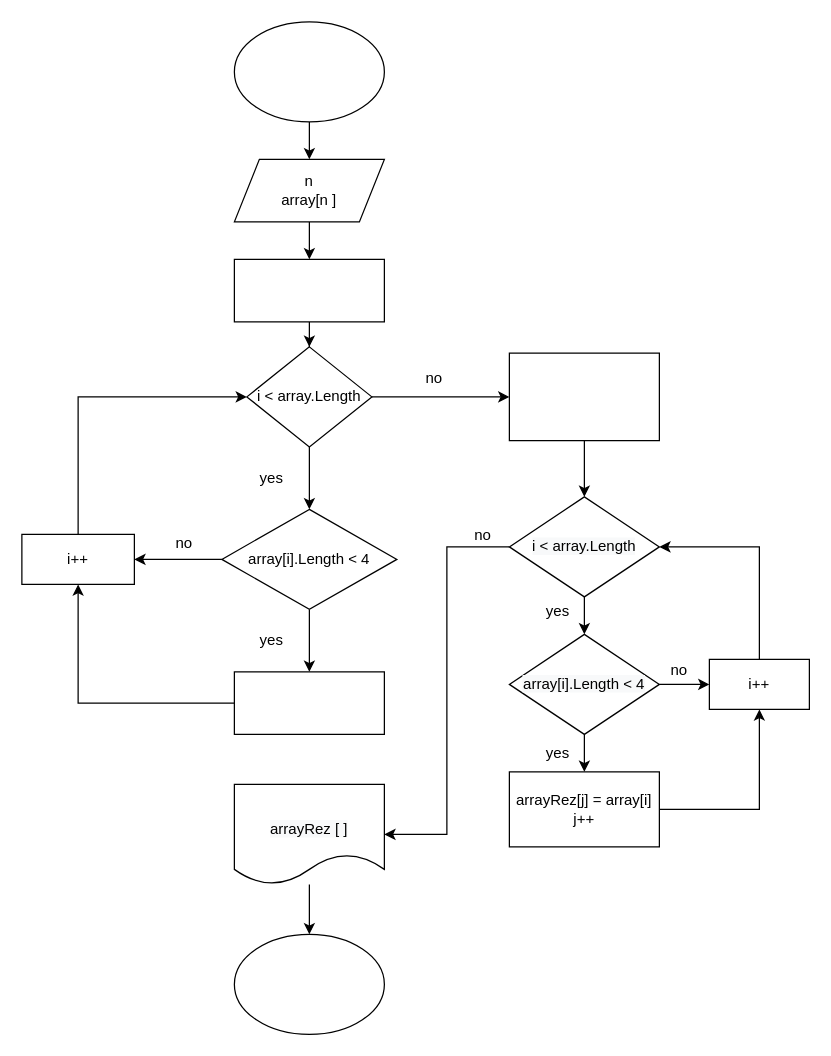
Image size: 831x1056. Some labels were removed from this diagram. The shapes that lost their labels are listed below. From the top down, each one's centre as x and y in pixels, then its label:
At (x=308, y=71): "Start".
At (x=308, y=290): "i = 0 size = 0".
At (x=583, y=396): "i=0 j=0 arrayRez [size]".
At (x=308, y=702): "size++".
At (x=308, y=983): "finish".
